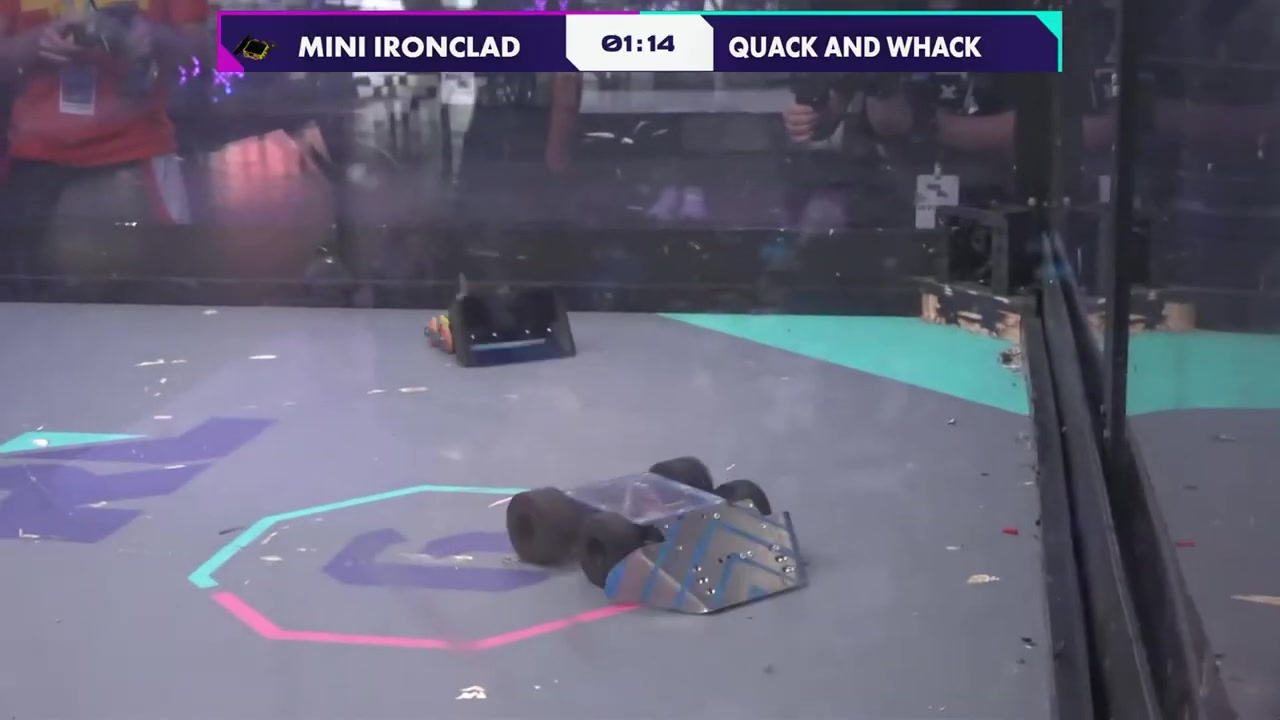combatbot: (504, 456, 809, 616), (424, 279, 578, 369)
